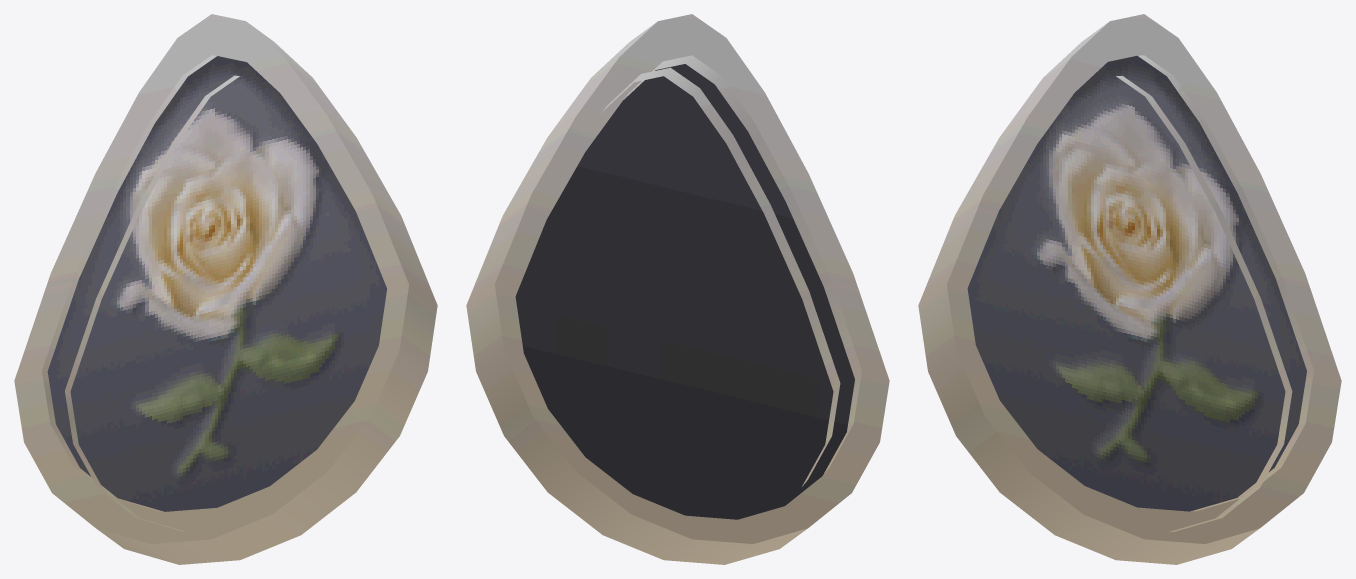
File: ps2_save-icons_meineliebeii.glb
3 renders of one model, left to right at view 1: azimuth 30°, elevation 25°; view 2: azimuth 150°, elevation 25°; view 3: azimuth 330°, elevation 25°, orthographic.
Parts seen in each view (by area): view 1: static.ico; view 2: static.ico; view 3: static.ico.
Part boxes in pixels (x1=…): static.ico: x1=14, y1=14, x2=437, y2=564; static.ico: x1=466, y1=14, x2=889, y2=564; static.ico: x1=918, y1=14, x2=1341, y2=564.
Size of the model in its own units: 3.26 by 4.14 by 0.4067.
Materials: 1 (1 with a texture image).
